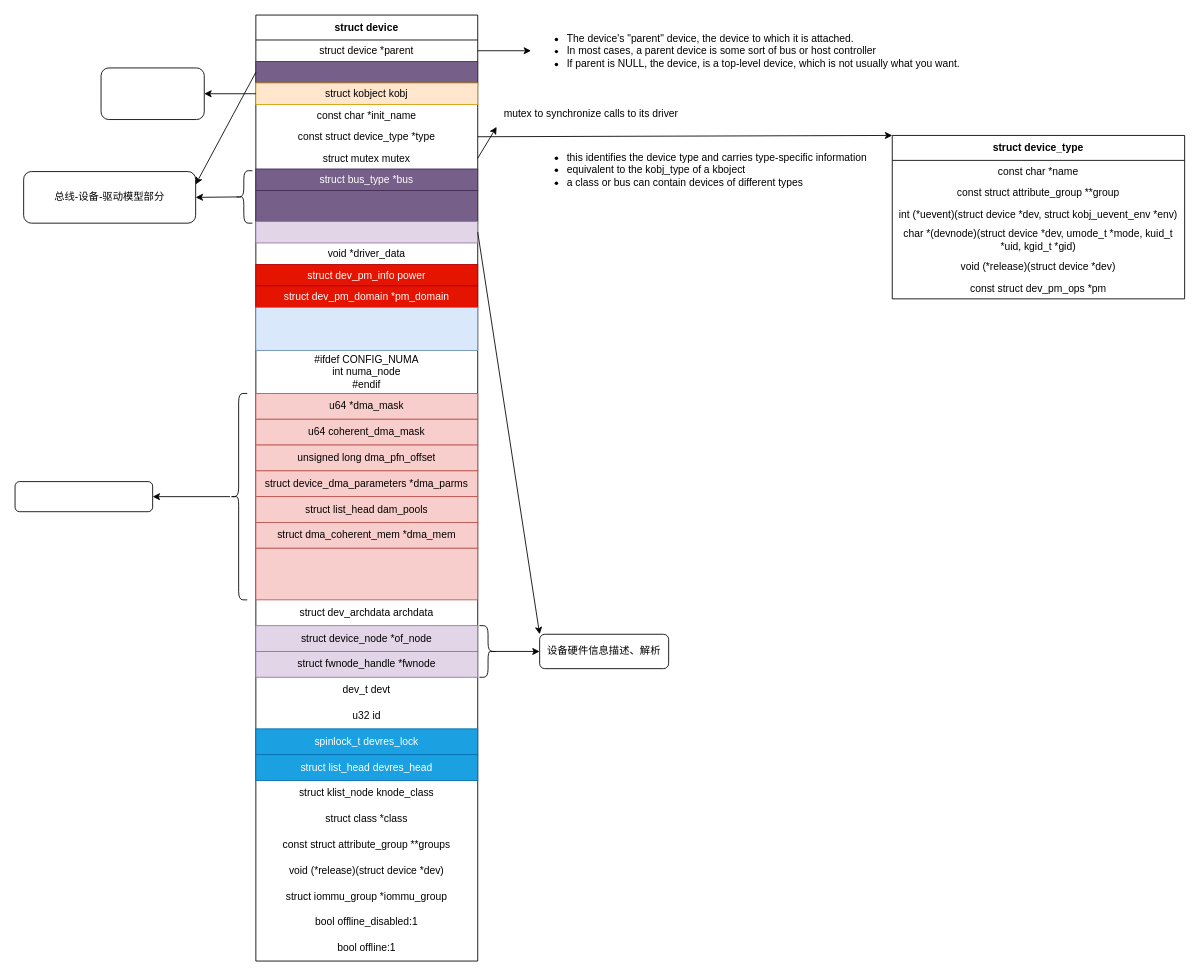
Image size: 1200x976. Some labels were removed from this diagram. Here are the shapes that lost their labels. From the top down, the centre of each, then its label:
pixel 366 72: struct device_private *p
pixel 152 93: kobject 相关内容
pixel 366 205: struct device_driver *driver
pixel 366 232: void *platform_data
pixel 366 328: #ifdef CONFIG_PINCTRL struct dev_pin_info *pins #endif
pixel 83 496: DMA 相关部分
pixel 366 573: #ifdef CONFIG_DMA_CMA struct cma *cma_area #endif
